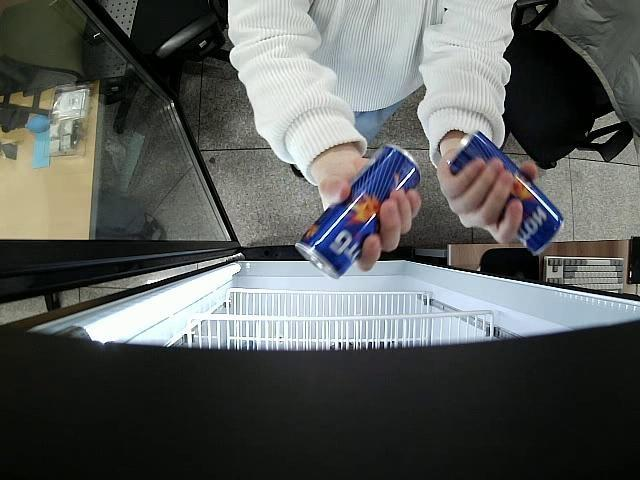16_hot6: (295, 145, 421, 281), (445, 128, 565, 258)
